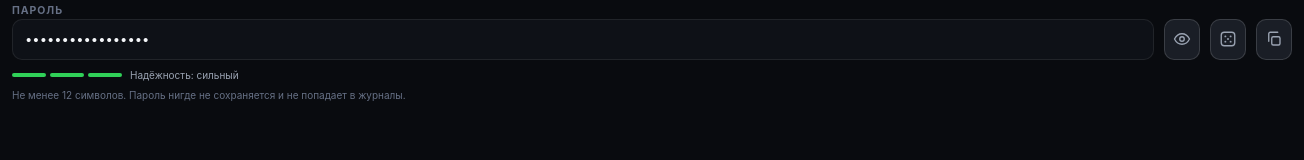
Test: copies the complete hidden password only on button press and confirms after success
Click the button named "Скопировать пароль". click: [1274, 39]
box: 1256,19 -> 1292,60
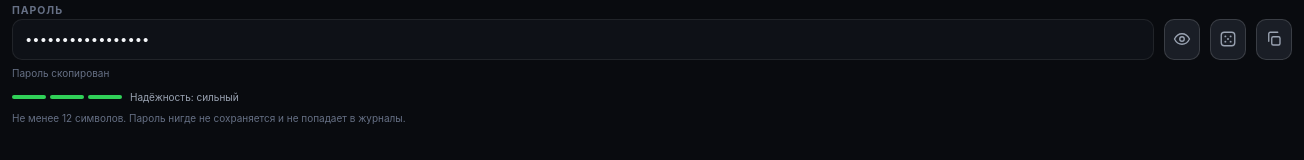
Expected: the text "Пароль скопирован" is shown, 12,67 -> 109,79
Type "new-password-456" into the password field labelled "Пароль". click: [583, 39]
box: 12,19 -> 1154,60
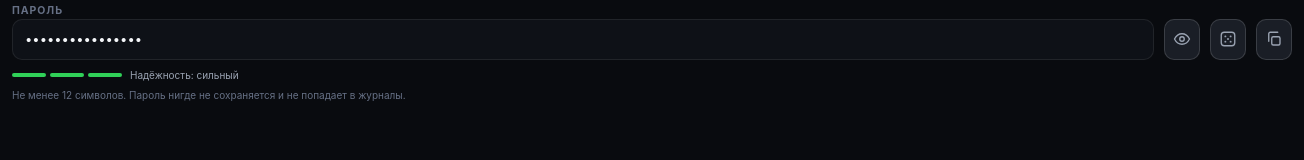
Expected: the text "Пароль скопирован" is gone
